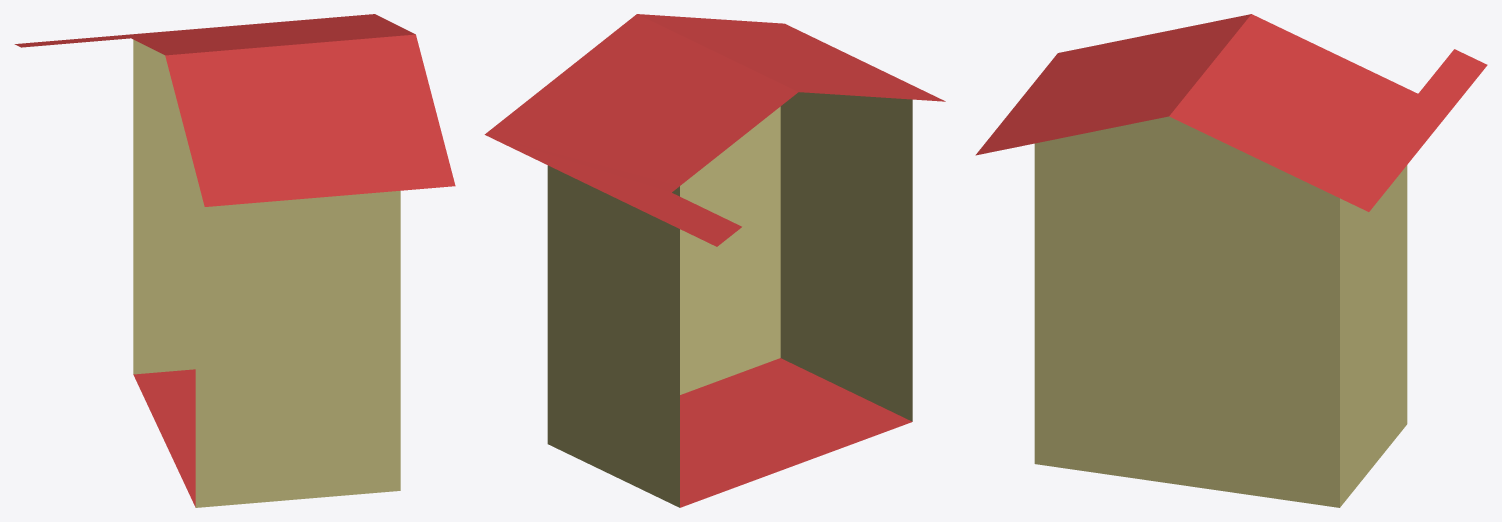
3 renders of one model, left to right at view 1: azimuth 30°, elevation 25°; view 2: azimuth 150°, elevation 25°; view 3: azimuth 270°, elevation 25°, orthographic. The views are drawn at different scales.
Size of the model in its own units: 8.06 by 10.96 by 9.15.
